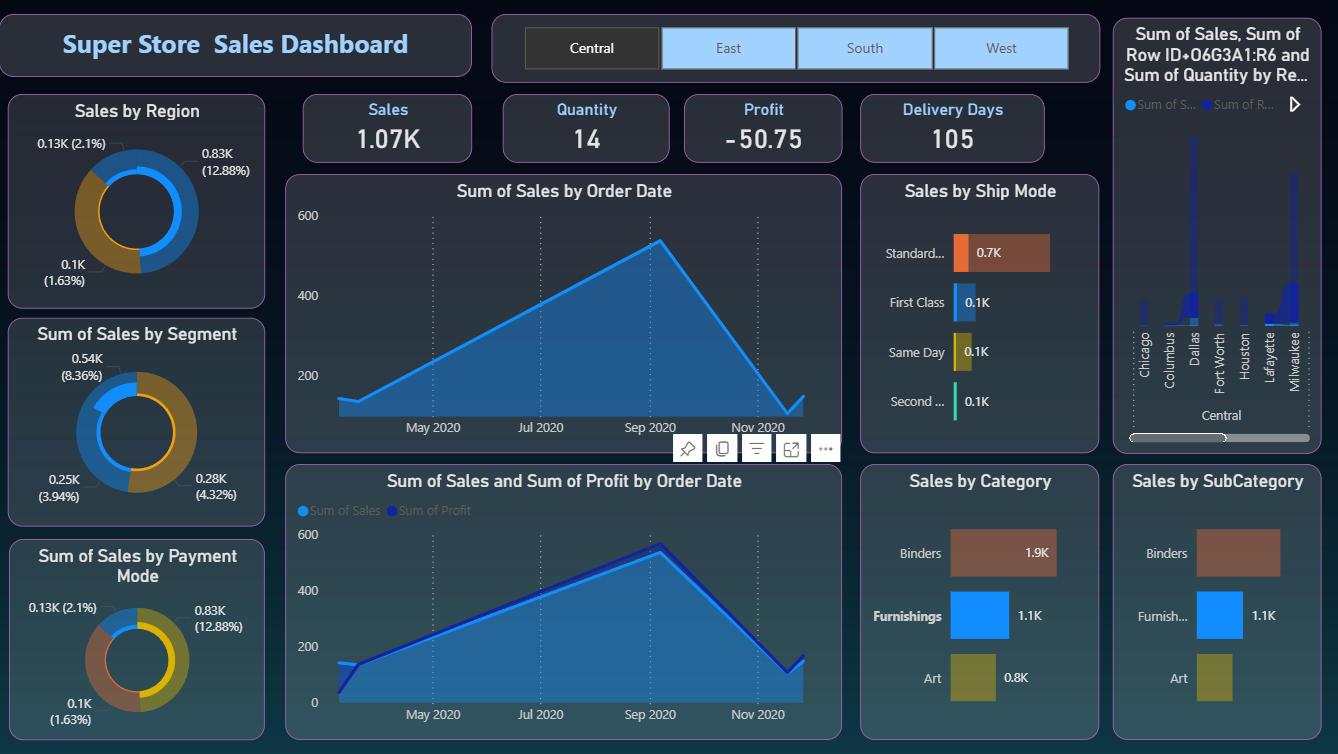

This screenshot's page, from the dashboard's own definition file:
{"tool":"powerbi","page":{"name":"Page 1","canvas":[1280,720],"ordinal":0},"visuals":[{"type":"clusteredBarChart","title":" Sales by Ship Mode","fields":{"Y":["Sum(SuperStore_Sales_Dataset.Sales)"],"Category":["SuperStore_Sales_Dataset.Ship Mode","SuperStore_Sales_Dataset.Category"]},"box":[822,167.4,227.8,266.2],"z":0},{"type":"clusteredBarChart","title":" Sales by SubCategory","fields":{"Y":["Sum(SuperStore_Sales_Dataset.Sales)"],"Category":["SuperStore_Sales_Dataset.Sub-Category"]},"box":[1062.1,443.2,199,263.5],"z":1000},{"type":"stackedAreaChart","fields":{"Category":["SuperStore_Sales_Dataset.Order Date"],"Y":["Sum(SuperStore_Sales_Dataset.Sales)"]},"box":[273.1,167.4,531,266.2],"z":2000},{"type":"stackedAreaChart","fields":{"Category":["SuperStore_Sales_Dataset.Order Date"],"Y":["Sum(SuperStore_Sales_Dataset.Sales)","Sum(SuperStore_Sales_Dataset.Profit)"]},"box":[273.1,443.2,531,263.5],"z":3000},{"type":"donutChart","fields":{"Category":["SuperStore_Sales_Dataset.Segment"],"Y":["Sum(SuperStore_Sales_Dataset.Sales)"]},"box":[8.2,304.6,245.6,199],"z":4000},{"type":"donutChart","fields":{"Category":["SuperStore_Sales_Dataset.Payment Mode","SuperStore_Sales_Dataset.Segment"],"Y":["Sum(SuperStore_Sales_Dataset.Sales)"]},"box":[9.6,514.6,244.3,192.1],"z":5000},{"type":"slicer","fields":{"Values":["SuperStore_Sales_Dataset.Region"]},"box":[469.3,13.7,580.4,65.9],"z":6000},{"type":"textbox","box":[0,13.7,451.5,60.4],"z":7000},{"type":"card","title":"Sales","fields":{"Values":["Sum(SuperStore_Sales_Dataset.Sales)"]},"box":[289.5,90.6,161.9,65.9],"z":8000},{"type":"card","title":"Quantity","fields":{"Values":["Sum(SuperStore_Sales_Dataset.Quantity)"]},"box":[480.3,90.6,159.2,65.9],"z":9000},{"type":"card","title":"Profit","fields":{"Values":["Sum(SuperStore_Sales_Dataset.Profit)"]},"box":[653.2,90.6,150.9,65.9],"z":10000},{"type":"card","title":"Delivery Days","fields":{"Values":["Sum(SuperStore_Sales.Delivery Days)"]},"box":[822,90.6,175.6,65.9],"z":11000},{"type":"donutChart","title":"Sales by Region","fields":{"Category":["SuperStore_Sales.Payment Mode","SuperStore_Sales.Country"],"Y":["Sum(SuperStore_Sales_Dataset.Sales)"],"Series":["SuperStore_Sales.Region"]},"box":[8.2,90.6,245.6,204.5],"z":12000},{"type":"clusteredBarChart","title":" Sales by Category","fields":{"Y":["Sum(SuperStore_Sales_Dataset.Sales)"],"Category":["SuperStore_Sales_Dataset.Sub-Category"]},"box":[822,443.2,227.8,263.5],"z":13000},{"type":"ribbonChart","fields":{"Category":["SuperStore_Sales.Region","SuperStore_Sales.City"],"Y":["Sum(SuperStore_Sales.Sales)","Sum(SuperStore_Sales.Row ID+O6G3A1:R6)","Sum(SuperStore_Sales.Quantity)"]},"box":[1062.1,17.8,199,415.8],"z":14000}]}

Visuals, with their boxes in screenshot pixels (x1, y1, x2, y2), scaled from the page's 1280x720 canvas onto the 1338x754 screenshot:
" Sales by Ship Mode" clusteredBarChart: box(859, 175, 1097, 454)
" Sales by SubCategory" clusteredBarChart: box(1110, 464, 1318, 740)
stackedAreaChart - SuperStore_Sales_Dataset.Order Date x Sum(SuperStore_Sales_Dataset.Sales): box(285, 175, 841, 454)
stackedAreaChart - SuperStore_Sales_Dataset.Order Date x Sum(SuperStore_Sales_Dataset.Sales): box(285, 464, 841, 740)
donutChart - SuperStore_Sales_Dataset.Segment x Sum(SuperStore_Sales_Dataset.Sales): box(9, 319, 265, 527)
donutChart - SuperStore_Sales_Dataset.Payment Mode x SuperStore_Sales_Dataset.Segment: box(10, 539, 265, 740)
slicer - SuperStore_Sales_Dataset.Region: box(491, 14, 1097, 83)
textbox: box(0, 14, 472, 78)
"Sales" card: box(303, 95, 472, 164)
"Quantity" card: box(502, 95, 668, 164)
"Profit" card: box(683, 95, 841, 164)
"Delivery Days" card: box(859, 95, 1043, 164)
"Sales by Region" donutChart: box(9, 95, 265, 309)
" Sales by Category" clusteredBarChart: box(859, 464, 1097, 740)
ribbonChart - SuperStore_Sales.Region x SuperStore_Sales.City: box(1110, 19, 1318, 454)
